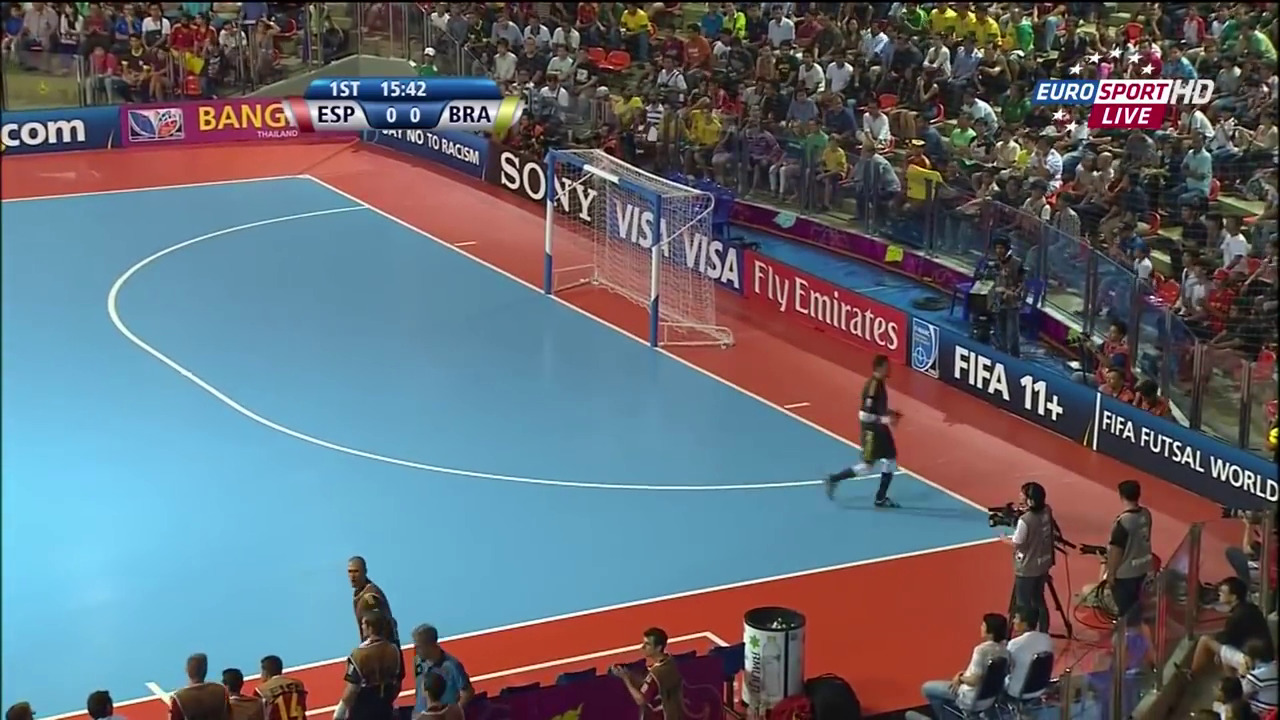person: (829, 346, 896, 508)
